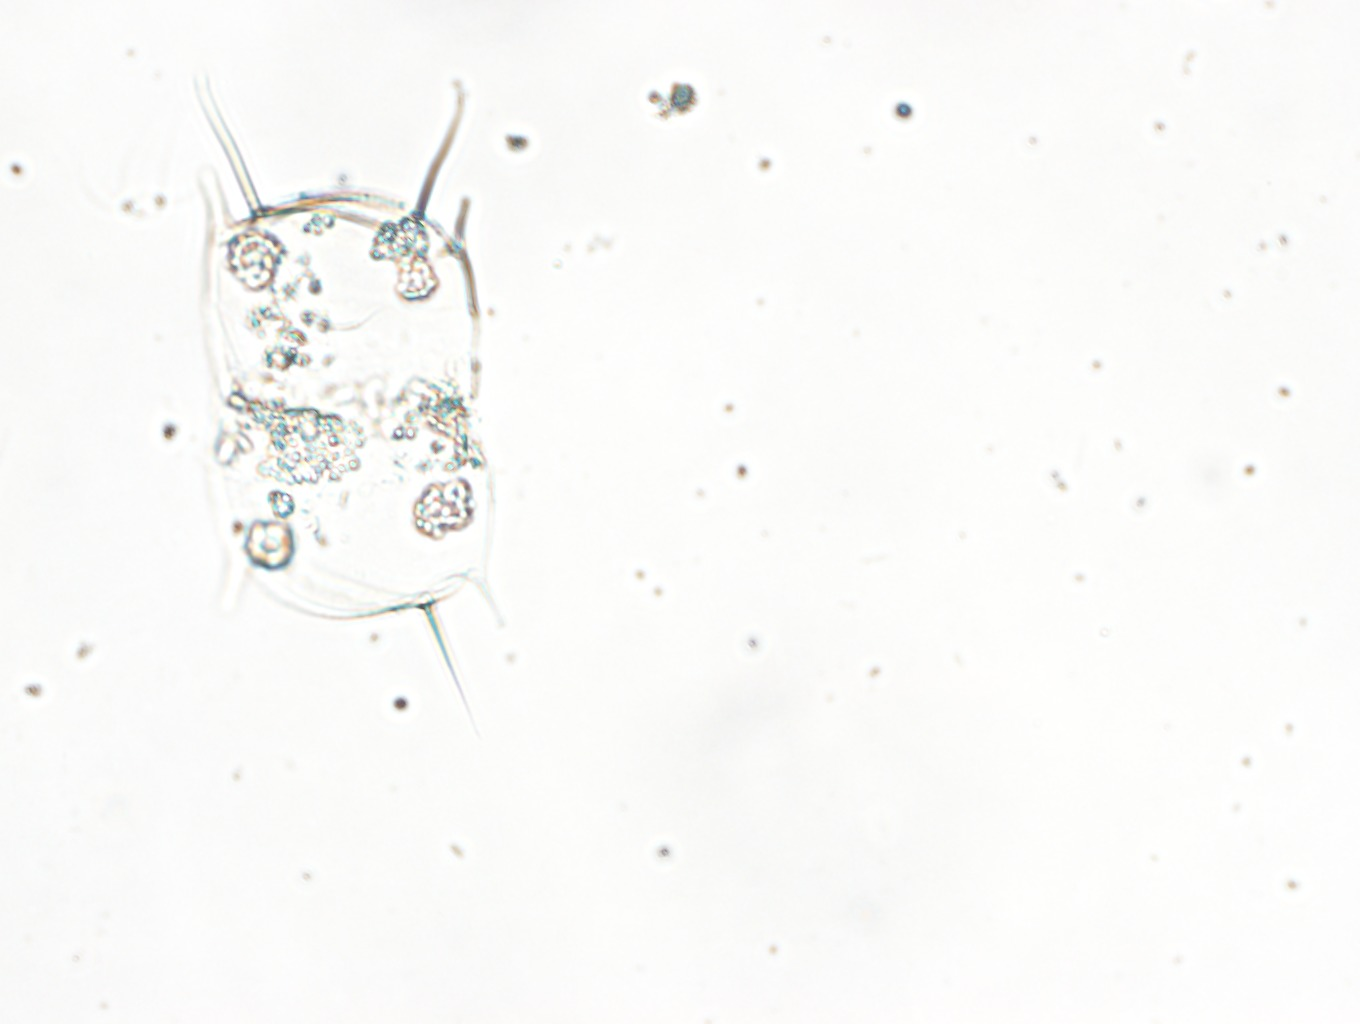biddulphia: (196, 68, 507, 730)
